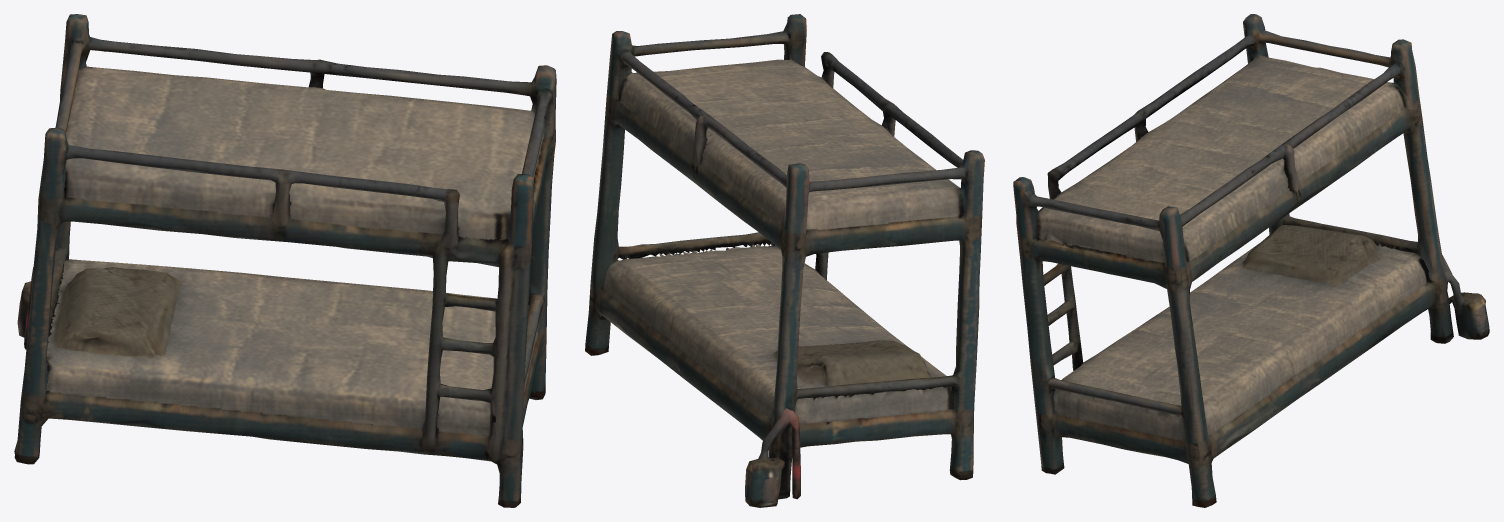
Rendered from raw.glb.
3 renders of one model, left to right at view 1: azimuth 30°, elevation 25°; view 2: azimuth 150°, elevation 25°; view 3: azimuth 270°, elevation 25°, orthographic. The views are drawn at different scales.
Size of the model in its own units: 0.9196 by 0.7227 by 0.927.
Materials: 1 (1 with a texture image).
